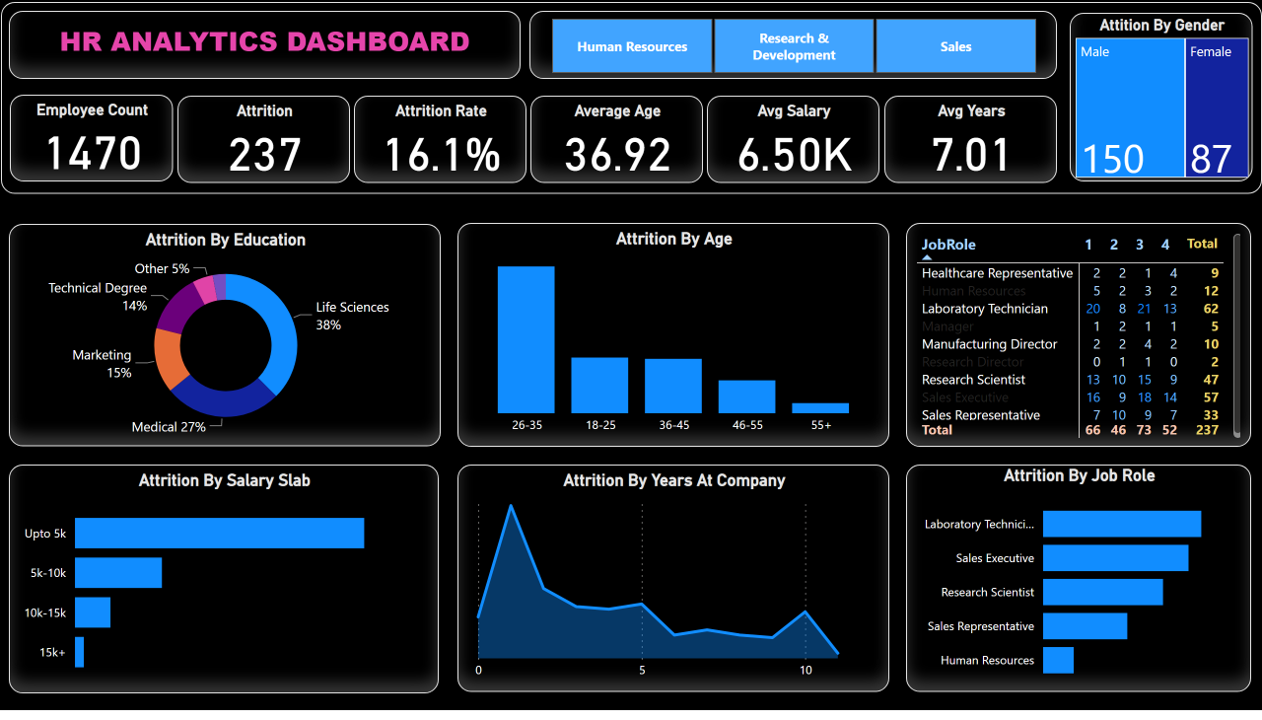

This screenshot's page, from the dashboard's own definition file:
{"tool":"powerbi","page":{"name":"Attrition","canvas":[1280,720],"ordinal":0},"visuals":[{"type":"shape","box":[0.9,2.3,1278.9,194.6],"z":0,"group":"g4"},{"type":"card","title":"Employee Count","fields":{"Values":["Count(HR_Analytics.EmpID)"]},"box":[9.4,96.7,165.4,88.1],"z":0,"group":"g2"},{"type":"group","id":"g1","title":"Group 2","box":[9.4,226.3,1259.6,226.9],"z":0},{"type":"group","id":"g2","title":"Group 1","box":[8.4,11.3,1261.3,174.3],"z":1000,"group":"g4"},{"type":"card","title":"Attrition","fields":{"Values":["Sum(HR_Analytics.AttritionCount)"]},"box":[178.9,97,175.1,88.3],"z":1000,"group":"g2"},{"type":"group","id":"g3","title":"Group 3","box":[9.3,470.9,1260.3,231.8],"z":1000},{"type":"group","id":"g4","title":"Group 4","box":[0.9,2.3,1278.9,194.6],"z":2000},{"type":"card","title":"Attrition Rate","fields":{"Values":["HR_Analytics.AttritionRate"]},"box":[358.2,97.1,175.1,88.3],"z":2000,"group":"g2"},{"type":"card","title":"Average Age","fields":{"Values":["Avg(HR_Analytics.Age)"]},"box":[537.4,97.2,175.1,88.3],"z":3000,"group":"g2"},{"type":"card","title":"Avg Salary","fields":{"Values":["Avg(HR_Analytics.MonthlyIncome)"]},"box":[716.7,97.3,175.1,88.3],"z":4000,"group":"g2"},{"type":"card","title":"Avg Years","fields":{"Values":["Avg(HR_Analytics.YearsAtCompany)"]},"box":[895.9,97,175.1,88.3],"z":5000,"group":"g2"},{"type":"donutChart","title":"Attrition By Education","fields":{"Category":["HR_Analytics.EducationField"],"Y":["Sum(HR_Analytics.AttritionCount)"]},"box":[9.4,226.8,438,225.7],"z":6000,"group":"g1"},{"type":"columnChart","title":"Attrition By Age","fields":{"Category":["HR_Analytics.AgeGroup"],"Y":["Sum(HR_Analytics.AttritionCount)"]},"box":[464.2,226.3,438,226.9],"z":7000,"group":"g1"},{"type":"pivotTable","fields":{"Rows":["HR_Analytics.JobRole"],"Columns":["HR_Analytics.JobSatisfaction"],"Values":["Sum(HR_Analytics.AttritionCount)"]},"box":[919,226.3,350,226.9],"z":8000,"group":"g1"},{"type":"clusteredBarChart","title":"Attrition By Salary Slab","fields":{"Category":["HR_Analytics.SalarySlab"],"Y":["Sum(HR_Analytics.AttritionCount)"]},"box":[9.3,470.9,435.8,231.8],"z":9000,"group":"g3"},{"type":"clusteredBarChart","title":"Attrition By Job Role","fields":{"Category":["HR_Analytics.JobRole"],"Y":["Sum(HR_Analytics.AttritionCount)"]},"box":[919.5,470.9,350.1,230.6],"z":10000,"group":"g3"},{"type":"areaChart","title":"Attrition By Years At Company","fields":{"Category":["HR_Analytics.YearsAtCompany"],"Y":["Sum(HR_Analytics.AttritionCount)"]},"box":[464.4,470.9,438.2,230.6],"z":11000,"group":"g3"},{"type":"treemap","title":"Attition By Gender","fields":{"Group":["HR_Analytics.Gender"],"Values":["Sum(HR_Analytics.AttritionCount)"]},"box":[1084,13.4,185.6,170.9],"z":12000,"group":"g2"},{"type":"slicer","fields":{"Values":["HR_Analytics.Department"]},"box":[535.9,11.3,534.8,68.8],"z":13000,"group":"g2"},{"type":"textbox","box":[8.4,11.3,519.1,68.8],"z":14000,"group":"g2"}]}

Visuals, with their boxes in screenshot pixels (x1, y1, x2, y2), scaled from the page's 1280x720 canvas onto the 1262x720 screenshot:
shape: [1, 2, 1261, 197]
"Employee Count" card: [9, 97, 172, 185]
"Group 2" group: [9, 226, 1251, 453]
"Group 1" group: [8, 11, 1252, 186]
"Attrition" card: [176, 97, 349, 185]
"Group 3" group: [9, 471, 1252, 703]
"Group 4" group: [1, 2, 1261, 197]
"Attrition Rate" card: [353, 97, 526, 185]
"Average Age" card: [530, 97, 702, 186]
"Avg Salary" card: [707, 97, 879, 186]
"Avg Years" card: [883, 97, 1056, 185]
"Attrition By Education" donutChart: [9, 227, 441, 452]
"Attrition By Age" columnChart: [458, 226, 890, 453]
pivotTable - HR_Analytics.JobRole x HR_Analytics.JobSatisfaction: [906, 226, 1251, 453]
"Attrition By Salary Slab" clusteredBarChart: [9, 471, 439, 703]
"Attrition By Job Role" clusteredBarChart: [907, 471, 1252, 702]
"Attrition By Years At Company" areaChart: [458, 471, 890, 702]
"Attition By Gender" treemap: [1069, 13, 1252, 184]
slicer - HR_Analytics.Department: [528, 11, 1056, 80]
textbox: [8, 11, 520, 80]
